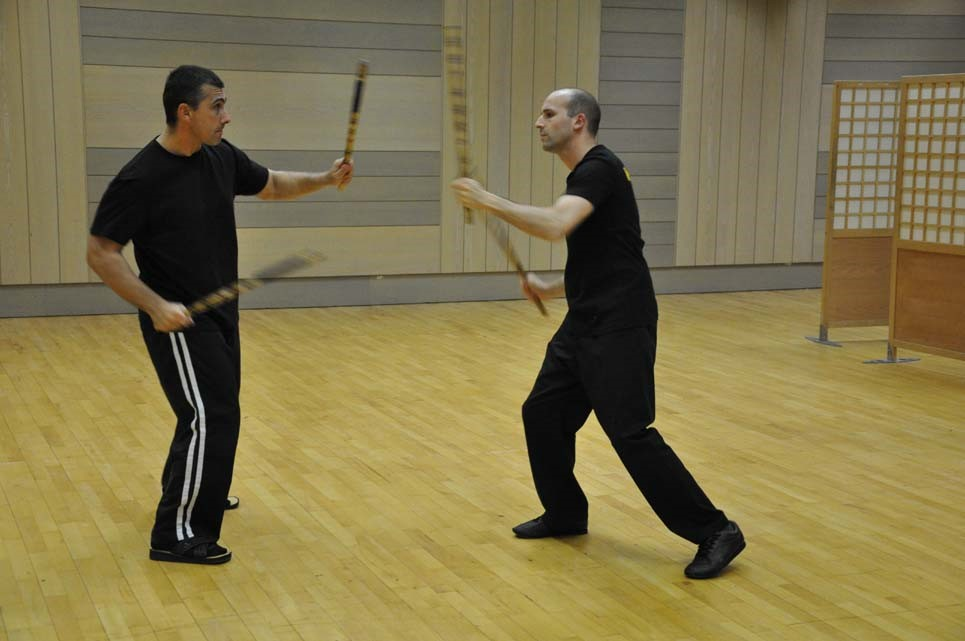baston_e: (188, 245, 309, 316), (478, 214, 548, 313), (442, 34, 474, 217), (338, 64, 367, 181)
baston_v: (306, 243, 329, 265), (440, 19, 464, 36), (460, 213, 475, 227), (356, 55, 372, 67), (333, 183, 347, 194), (540, 308, 551, 318)
